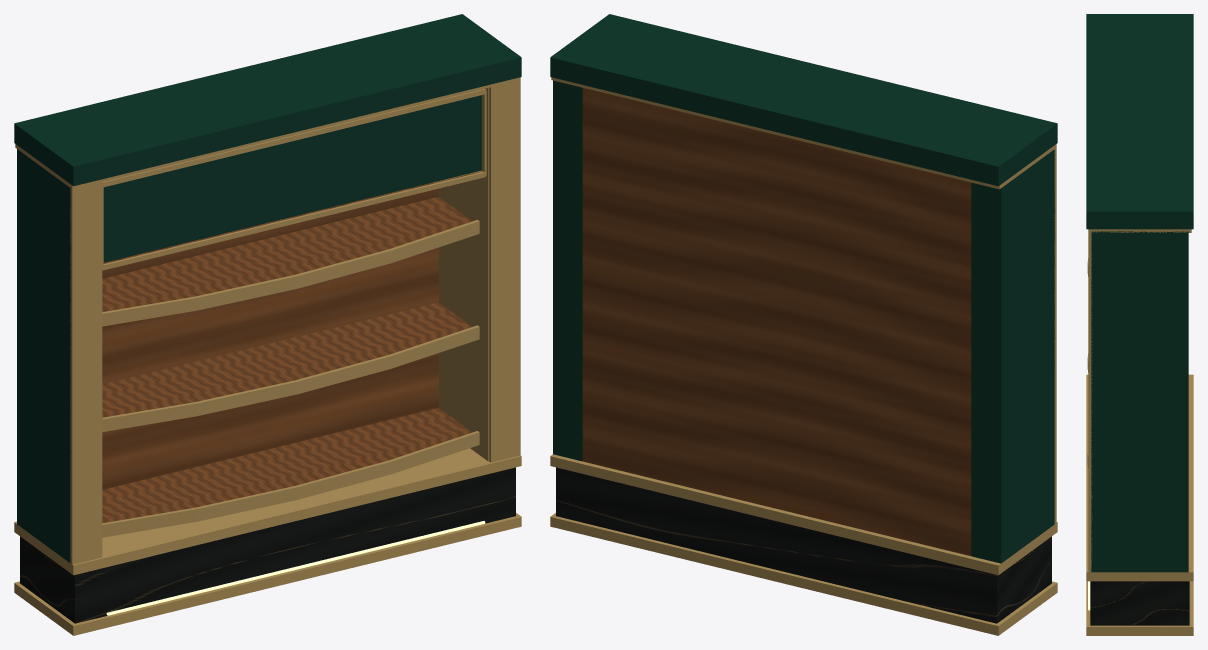
The picture shows the model from 3 angles, left to right: view 1: azimuth 30°, elevation 25°; view 2: azimuth 150°, elevation 25°; view 3: azimuth 270°, elevation 25°; orthographic projection. The views are drawn at different scales.
Parts seen in each view (by area): view 1: cabinet_back, cabinet_crown, brand_header_panel, cabinet_stone_base, cabinet_left_pillar, shelf_1, shelf_2, shelf_3, trim_left_front, trim_right_front, trim_base_top, trim_right_inner (+9 smaller); view 2: cabinet_back, cabinet_crown, cabinet_left_pillar, cabinet_stone_base, cabinet_right_pillar, trim_base_top, trim_base_plinth, trim_crown_lip, trim_left_front; view 3: cabinet_right_pillar, cabinet_crown, cabinet_stone_base, trim_base_top, trim_base_plinth, trim_right_front, trim_crown_lip.
Part boxes in pixels (x1=…): cabinet_back: x1=102, y1=188, x2=438, y2=489; cabinet_crown: x1=14, y1=14, x2=521, y2=186; brand_header_panel: x1=103, y1=95, x2=481, y2=262; cabinet_stone_base: x1=20, y1=467, x2=515, y2=623; cabinet_left_pillar: x1=17, y1=149, x2=70, y2=562; shelf_1: x1=102, y1=408, x2=472, y2=523; shelf_2: x1=102, y1=302, x2=471, y2=417; shelf_3: x1=102, y1=196, x2=472, y2=311; trim_left_front: x1=70, y1=182, x2=102, y2=564; trim_right_front: x1=489, y1=80, x2=520, y2=462; trim_base_top: x1=14, y1=448, x2=521, y2=575; trim_right_inner: x1=439, y1=88, x2=489, y2=461; cabinet_back: x1=582, y1=88, x2=971, y2=555; cabinet_crown: x1=550, y1=14, x2=1057, y2=186; cabinet_left_pillar: x1=971, y1=149, x2=1054, y2=563; cabinet_stone_base: x1=556, y1=467, x2=1051, y2=623; cabinet_right_pillar: x1=553, y1=80, x2=582, y2=461; trim_base_top: x1=550, y1=454, x2=1057, y2=575; trim_base_plinth: x1=550, y1=513, x2=1057, y2=635; trim_crown_lip: x1=551, y1=77, x2=1056, y2=189; trim_left_front: x1=1054, y1=148, x2=1056, y2=523; cabinet_right_pillar: x1=1091, y1=231, x2=1188, y2=572; cabinet_crown: x1=1086, y1=14, x2=1193, y2=229; cabinet_stone_base: x1=1090, y1=581, x2=1189, y2=625; trim_base_top: x1=1086, y1=374, x2=1193, y2=581; trim_base_plinth: x1=1086, y1=581, x2=1193, y2=635; trim_right_front: x1=1088, y1=232, x2=1092, y2=572; trim_crown_lip: x1=1088, y1=229, x2=1191, y2=232.
Bounding box in the file's own units: 2.4 × 2.4 × 0.55.
Materials: 5 (2 with a texture image).
